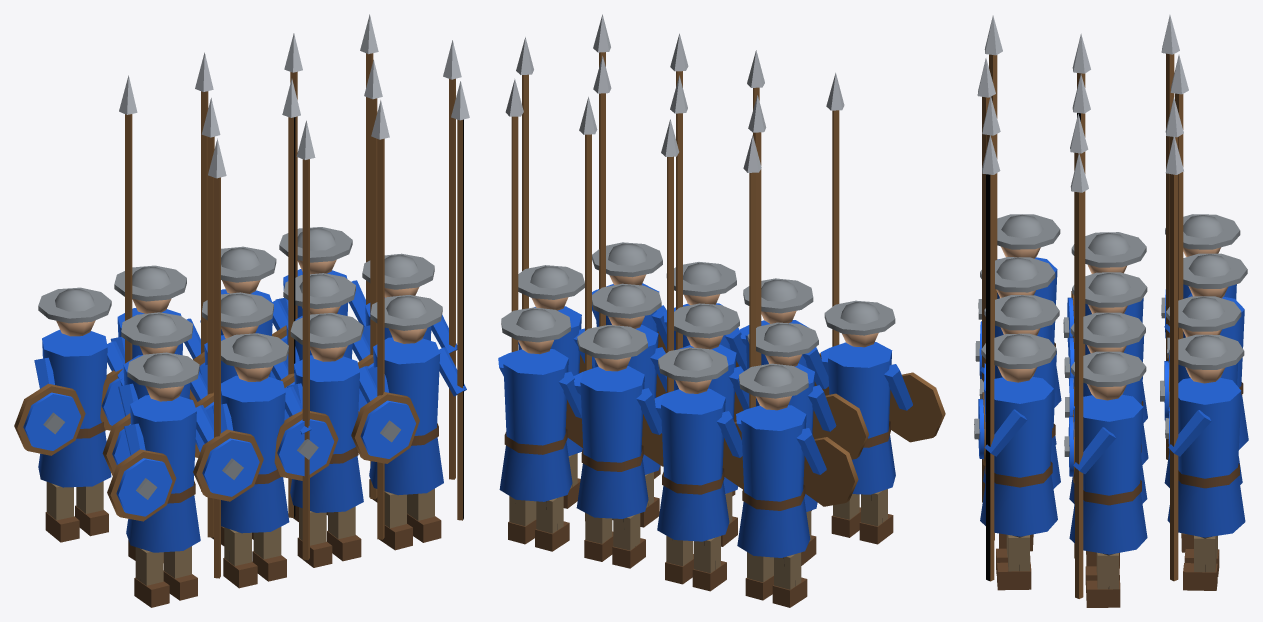
File: squad_dl2_blue.glb
3 views of the same model, side by side, from view 1: azimuth 30°, elevation 25°; view 2: azimuth 150°, elevation 25°; view 3: azimuth 270°, elevation 25° (orthographic). The views are drawn at different scales.
Visible parts, largest first — view 1: squad_dl2_blue; view 2: squad_dl2_blue; view 3: squad_dl2_blue.
Boxes of the visible parts, <box> form: squad_dl2_blue: <box>14,14,469,607</box>; squad_dl2_blue: <box>498,14,945,607</box>; squad_dl2_blue: <box>974,15,1248,607</box>.
Size of the model in its own units: 0.6576 by 0.722 by 0.3878.
Materials: 1 (1 with a texture image).
